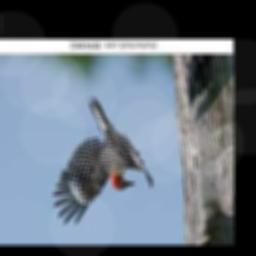Woodpecker: (51, 96, 152, 225)
